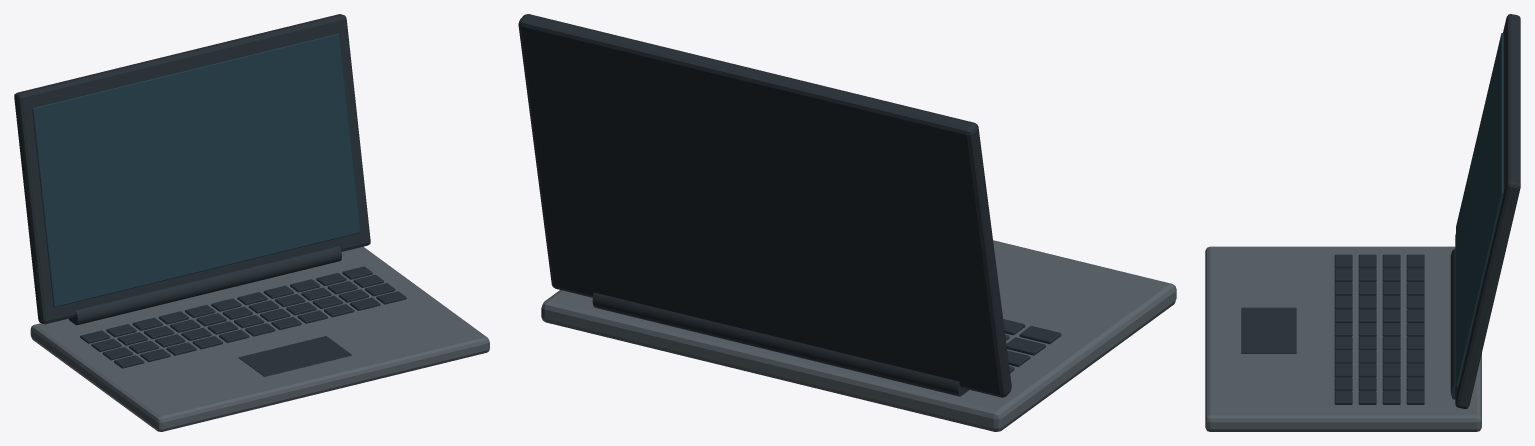
The model's file is laptop.glb.
The picture shows the model from 3 angles, left to right: view 1: azimuth 30°, elevation 25°; view 2: azimuth 150°, elevation 25°; view 3: azimuth 270°, elevation 25°; orthographic projection. The views are drawn at different scales.
Parts seen in each view (by area): view 1: laptop; view 2: laptop; view 3: laptop.
Boxes of the visible parts, <box> form: laptop: <box>14,14,489,431</box>; laptop: <box>518,14,1176,431</box>; laptop: <box>1205,14,1520,431</box>.
Bounding box in the file's own units: 0.34 × 0.2289 × 0.2622.
